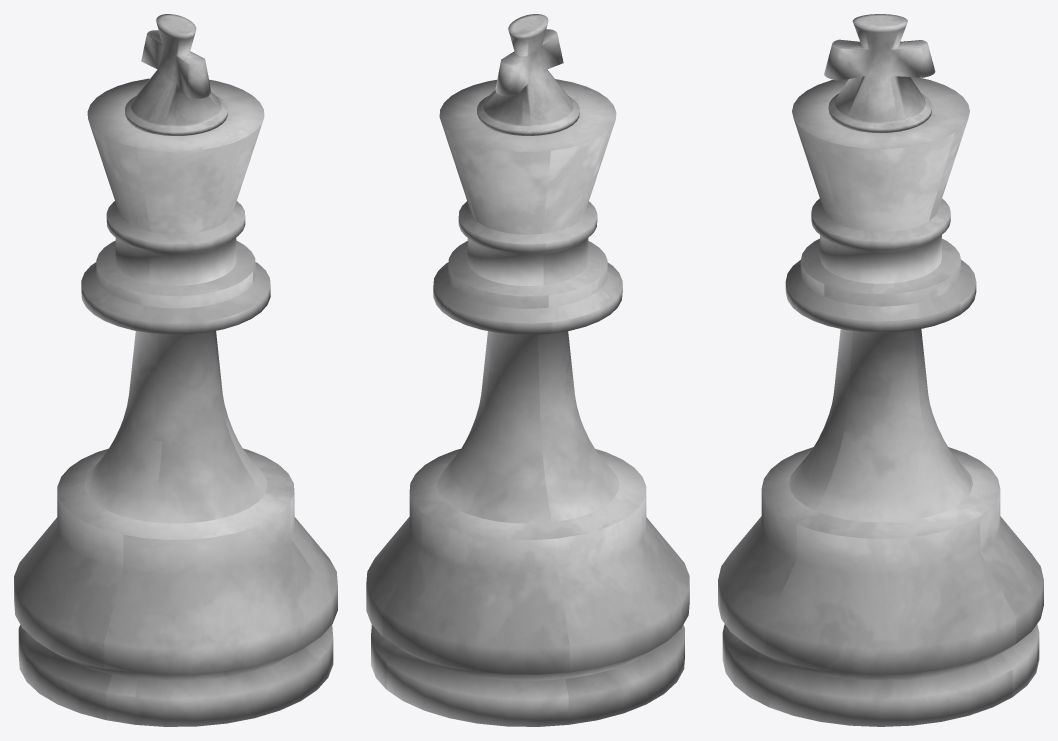
File: king-chess.glb
3 views of the same model, side by side, from view 1: azimuth 30°, elevation 25°; view 2: azimuth 150°, elevation 25°; view 3: azimuth 270°, elevation 25° (orthographic).
Visible parts, largest first — view 1: Cylinder, Cylinder.001; view 2: Cylinder, Cylinder.001; view 3: Cylinder, Cylinder.001.
Part boxes in pixels (x1,y1,x2,y2): Cylinder: (14, 78, 337, 726); Cylinder.001: (125, 14, 227, 135); Cylinder: (366, 79, 689, 726); Cylinder.001: (477, 14, 579, 135); Cylinder: (718, 77, 1043, 726); Cylinder.001: (824, 14, 935, 133).
Size of the model in its own units: 2.06 by 4.45 by 2.06.
Materials: 1 (1 with a texture image).
